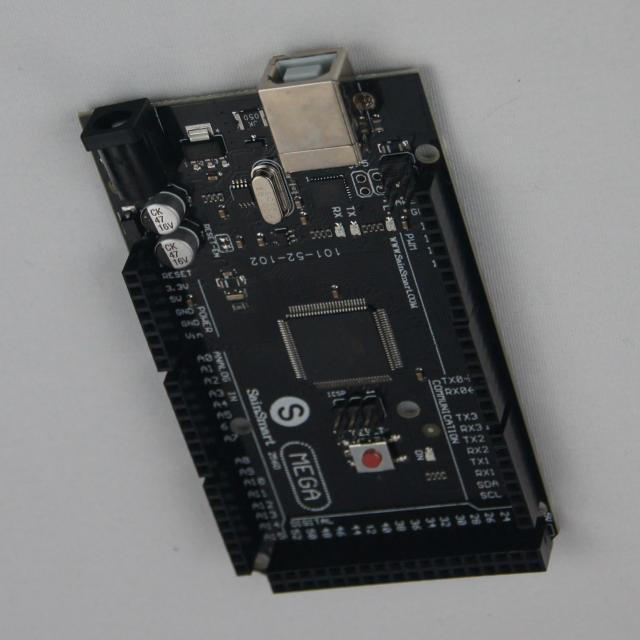Arduino Mega 2560 -Black-: (82, 50, 559, 593)
